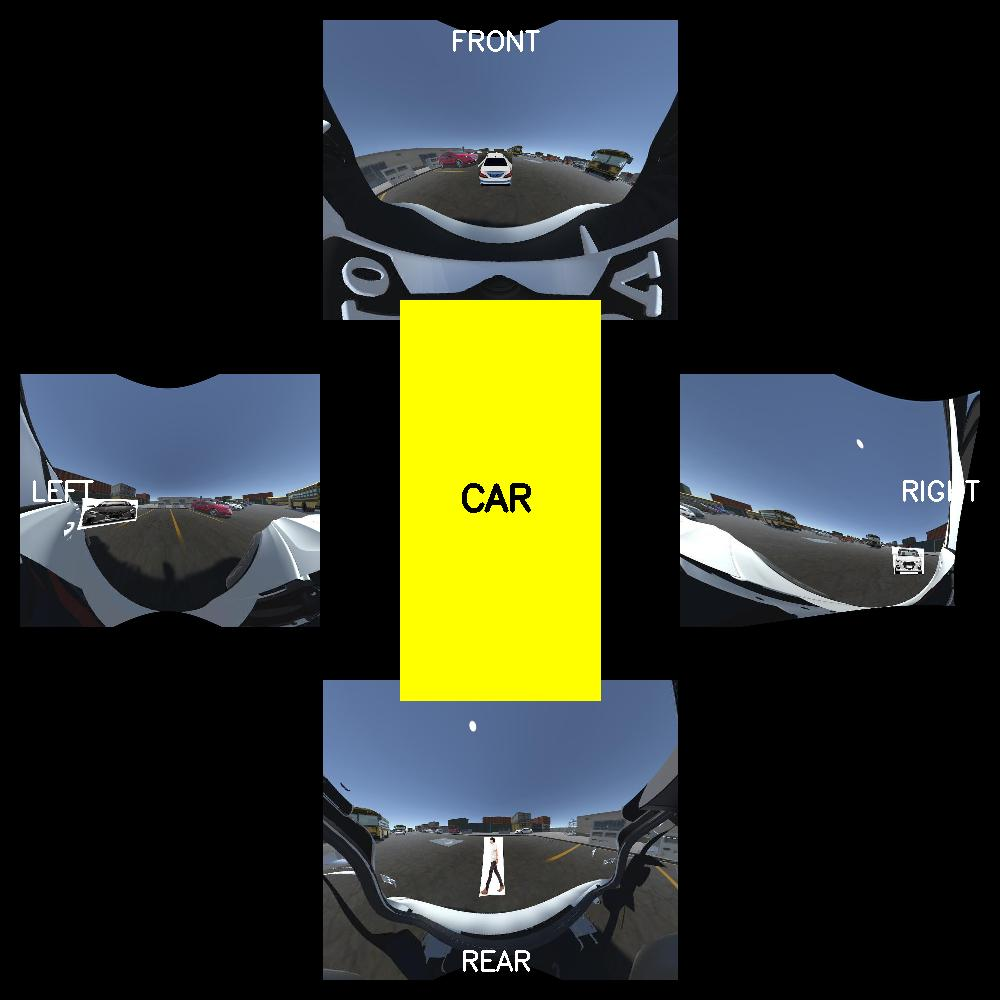Car: (78, 494, 139, 526), (476, 151, 514, 188), (891, 542, 926, 576)
objects: (481, 837, 503, 896)
